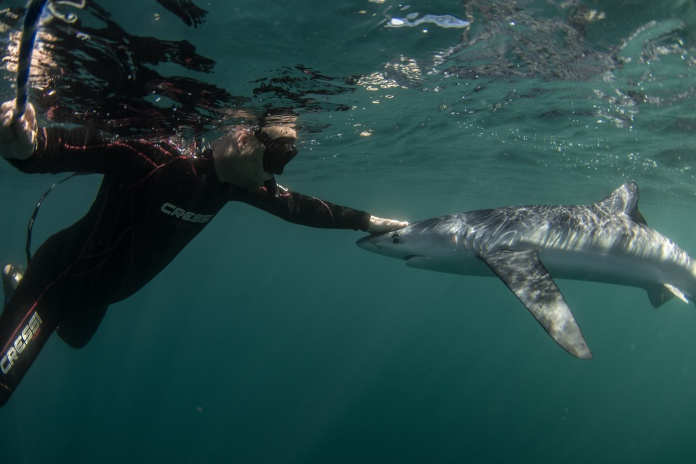Azul: (352, 180, 696, 366)
